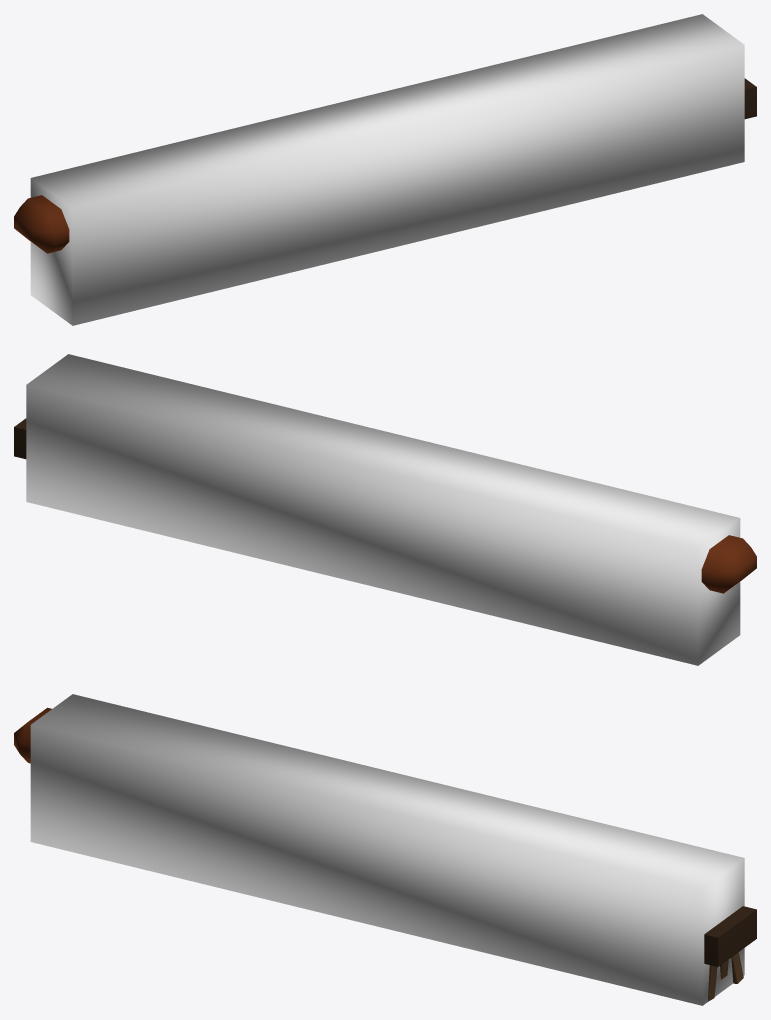
The model's file is cepillo_alambre.glb.
The picture shows the model from 3 angles, top to bottom: view 1: azimuth 30°, elevation 25°; view 2: azimuth 150°, elevation 25°; view 3: azimuth 330°, elevation 25°; orthographic projection.
Visible parts, largest first — view 1: cepillo-colcaja, cepillo; view 2: cepillo-colcaja, cepillo; view 3: cepillo-colcaja, cepillo.
Boxes of the visible parts, x1,y1,x2,y2 form: cepillo-colcaja: (30,14,744,325); cepillo: (14,78,756,253); cepillo-colcaja: (26,354,740,665); cepillo: (14,418,756,593); cepillo-colcaja: (30,694,744,1005); cepillo: (14,707,756,1001).
Size of the model in its own units: 0.255 by 0.0404 by 0.026.
